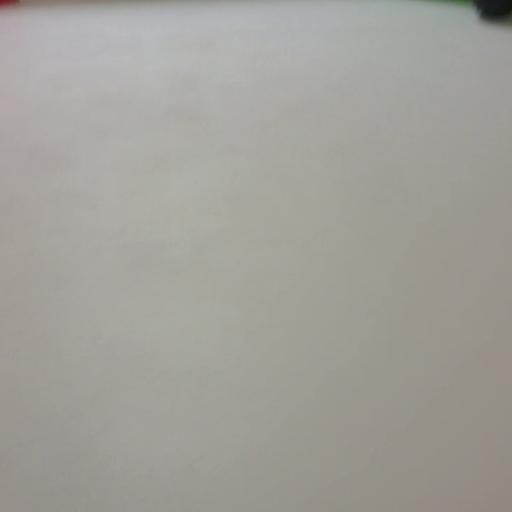dead: (472, 0, 512, 23)
